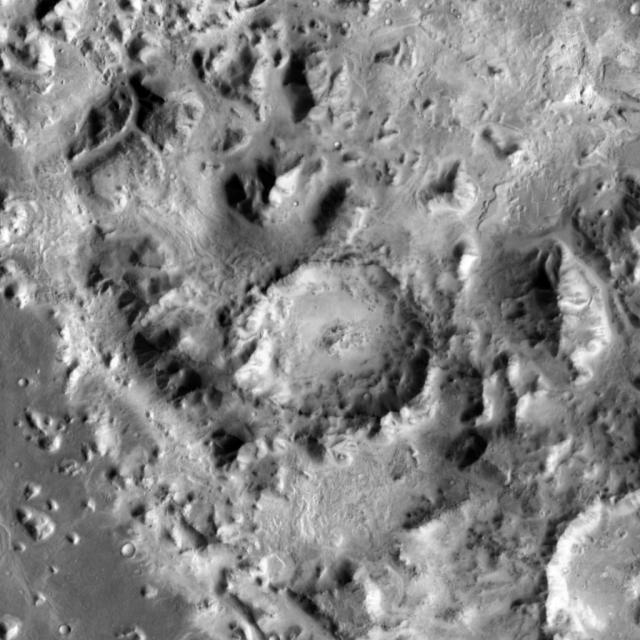crater: (0, 0, 640, 549), (240, 257, 427, 423), (432, 269, 462, 295), (622, 0, 640, 16), (631, 612, 640, 626), (115, 544, 126, 555), (10, 376, 20, 386), (53, 624, 63, 634), (264, 634, 275, 640), (328, 140, 336, 148), (386, 9, 394, 15)
